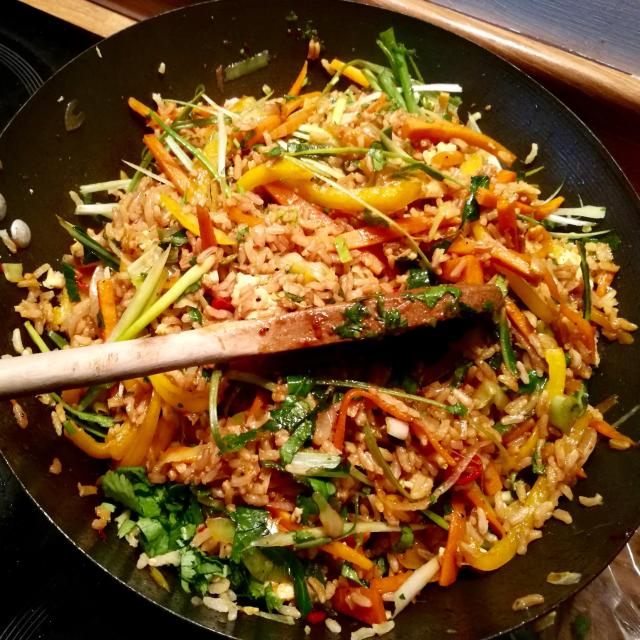Nasi Goreng: (19, 36, 636, 633)
